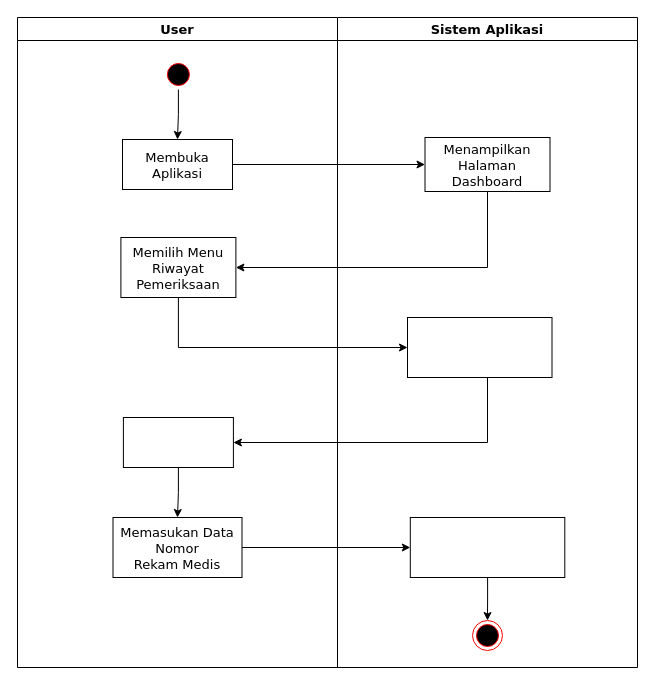
Some shapes in this 655 by 685 pixel diagram are drawn without their labels. Each missing label, with the centre of its shape:
"Memilih Cabang Rumah Sakit" belongs at (x=177, y=442).
"Menampilkan Halaman Cabang Rumah Sakit" belongs at (x=479, y=347).
"Menampilkan Halaman Riwayat Pemeriksaan Pasien" belongs at (x=487, y=547).
